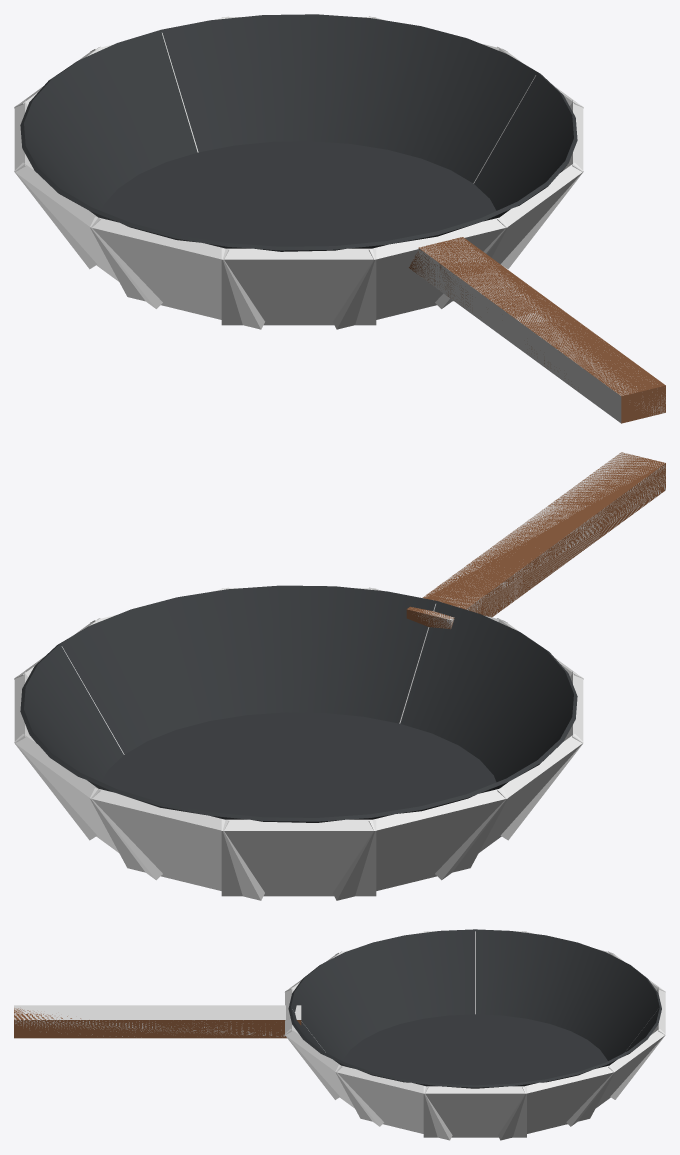
The model's file is Pan 1.fbx.
3 renders of one model, top to bottom at view 1: azimuth 30°, elevation 25°; view 2: azimuth 150°, elevation 25°; view 3: azimuth 270°, elevation 25°, orthographic. The views are drawn at different scales.
Parts seen in each view (by area): view 1: Prop_pan, COL_Pan_Wall6, COL_Pan_Handle, COL_Pan_Wall5, COL_Pan_Wall7, COL_Pan_Wall4, COL_Pan_Wall8, COL_Pan_Wall3, COL_Pan_Wall9; view 2: Prop_pan, COL_Pan_Wall2, COL_Pan_Wall1, COL_Pan_Wall3, COL_Pan_Handle, COL_Pan_Wall4, COL_Pan_Wall12, COL_Pan_Wall5, COL_Pan_Wall11; view 3: Prop_pan, COL_Pan_Handle, COL_Pan_Wall10, COL_Pan_Wall9, COL_Pan_Wall11, COL_Pan_Wall8, COL_Pan_Wall12, COL_Pan_Wall1, COL_Pan_Wall7.
Part boxes in pixels (x1,y1,x2,y2): Prop_pan: [20, 14, 665, 423]; COL_Pan_Wall6: [221, 248, 376, 325]; COL_Pan_Handle: [409, 237, 665, 423]; COL_Pan_Wall5: [90, 216, 264, 329]; COL_Pan_Wall7: [333, 216, 507, 329]; COL_Pan_Wall4: [14, 162, 162, 308]; COL_Pan_Wall8: [435, 162, 583, 308]; COL_Pan_Wall3: [14, 100, 97, 269]; COL_Pan_Wall9: [500, 100, 583, 269]; Prop_pan: [20, 452, 665, 822]; COL_Pan_Wall2: [221, 819, 376, 896]; COL_Pan_Wall1: [90, 788, 264, 900]; COL_Pan_Wall3: [333, 788, 507, 900]; COL_Pan_Handle: [417, 452, 665, 628]; COL_Pan_Wall4: [435, 734, 583, 880]; COL_Pan_Wall12: [14, 734, 162, 880]; COL_Pan_Wall5: [500, 671, 583, 840]; COL_Pan_Wall11: [14, 671, 97, 840]; Prop_pan: [14, 929, 661, 1088]; COL_Pan_Handle: [14, 1005, 301, 1037]; COL_Pan_Wall10: [423, 1086, 526, 1137]; COL_Pan_Wall9: [335, 1065, 452, 1140]; COL_Pan_Wall11: [498, 1065, 614, 1140]; COL_Pan_Wall8: [284, 1029, 383, 1126]; COL_Pan_Wall12: [566, 1029, 665, 1126]; COL_Pan_Wall1: [610, 987, 665, 1099]; COL_Pan_Wall7: [285, 987, 339, 1099].
Bounding box in the file's own units: 0.2654 × 0.0546 × 0.4537.
